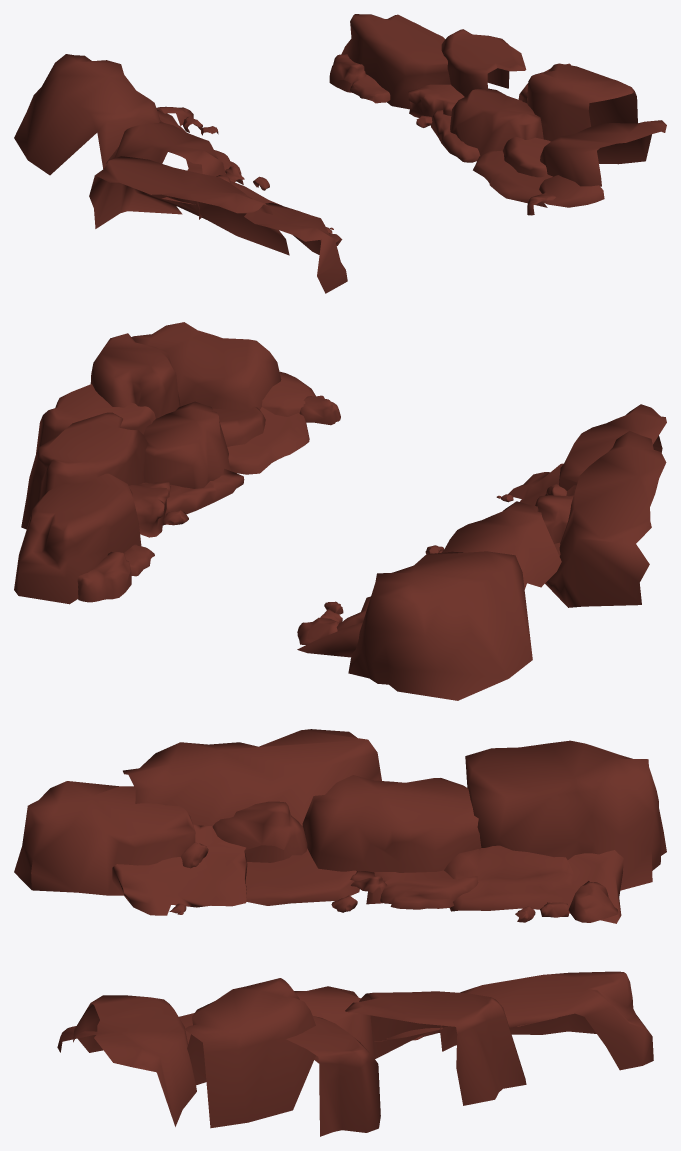
Rendered from Grassland02_MountainWall.fbx.
The picture shows the model from 3 angles, top to bottom: view 1: azimuth 30°, elevation 25°; view 2: azimuth 150°, elevation 25°; view 3: azimuth 270°, elevation 25°; orthographic projection. The views are drawn at different scales.
Parts seen in each view (by area): view 1: Grassland02_MountainWall; view 2: Grassland02_MountainWall; view 3: Grassland02_MountainWall.
Boxes of the visible parts, <box> form: Grassland02_MountainWall: <box>14,14,666,293</box>; Grassland02_MountainWall: <box>14,322,666,700</box>; Grassland02_MountainWall: <box>14,729,666,1136</box>.
Bounding box in the file's own units: 2978 × 467 × 2504.
